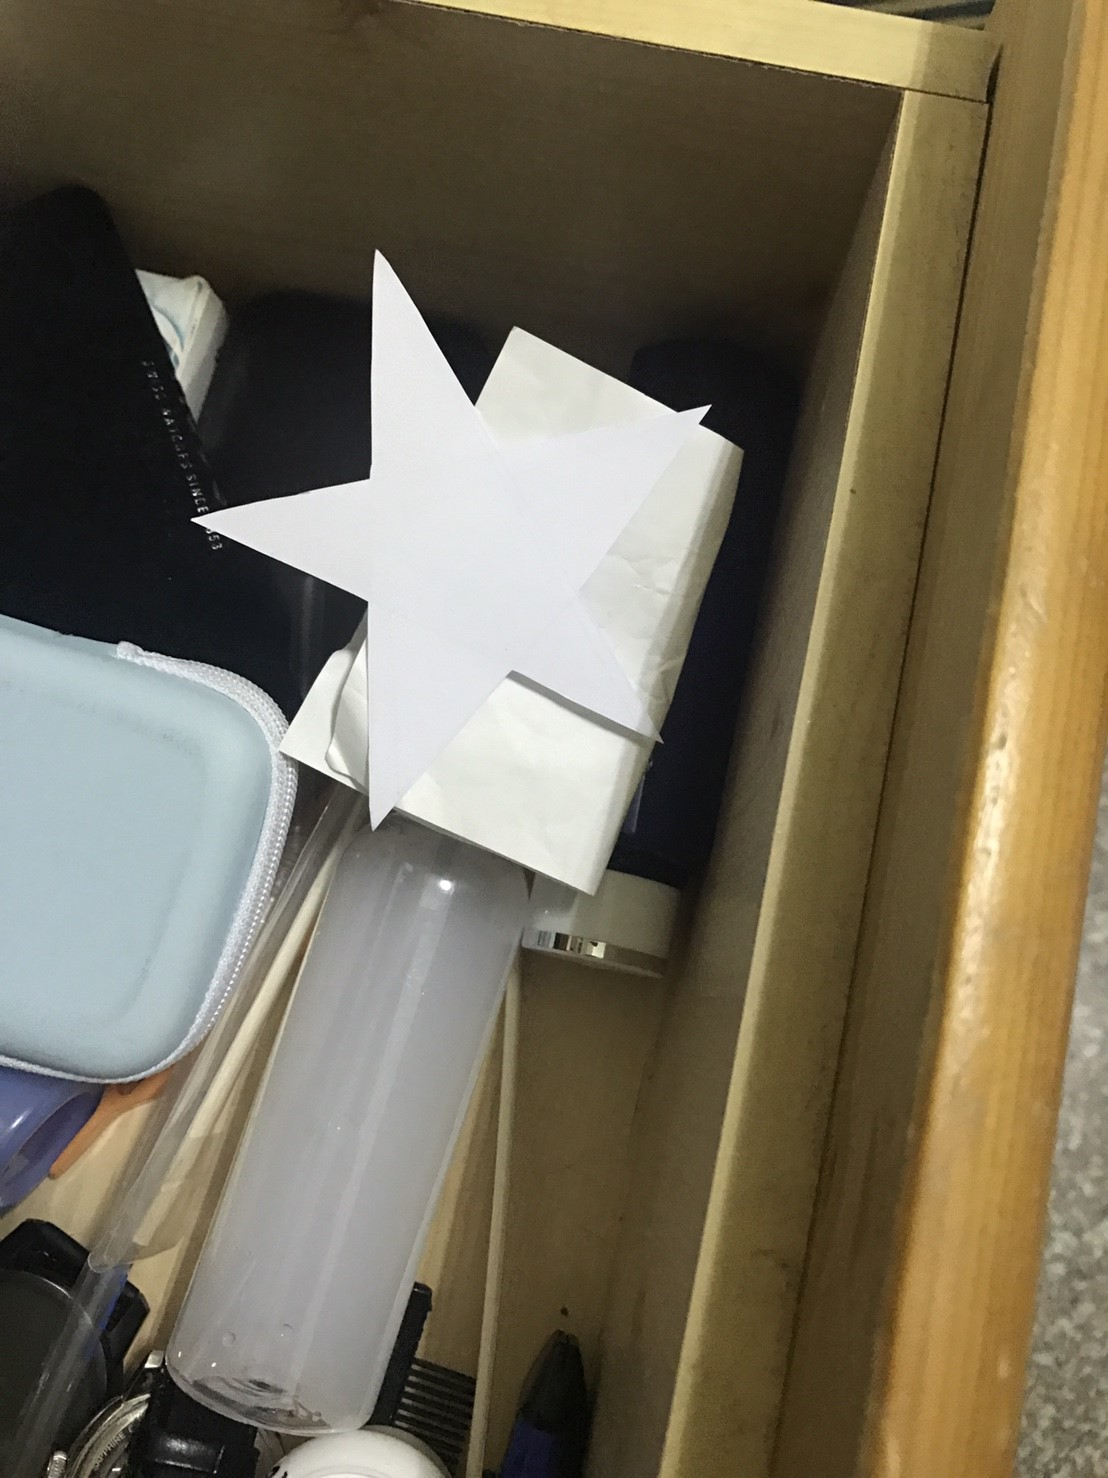star: (144, 223, 732, 834)
